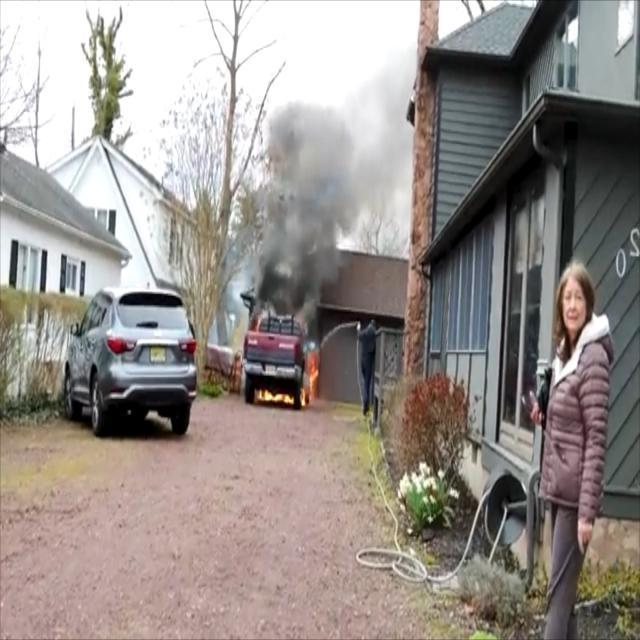fire: (255, 341, 317, 412)
